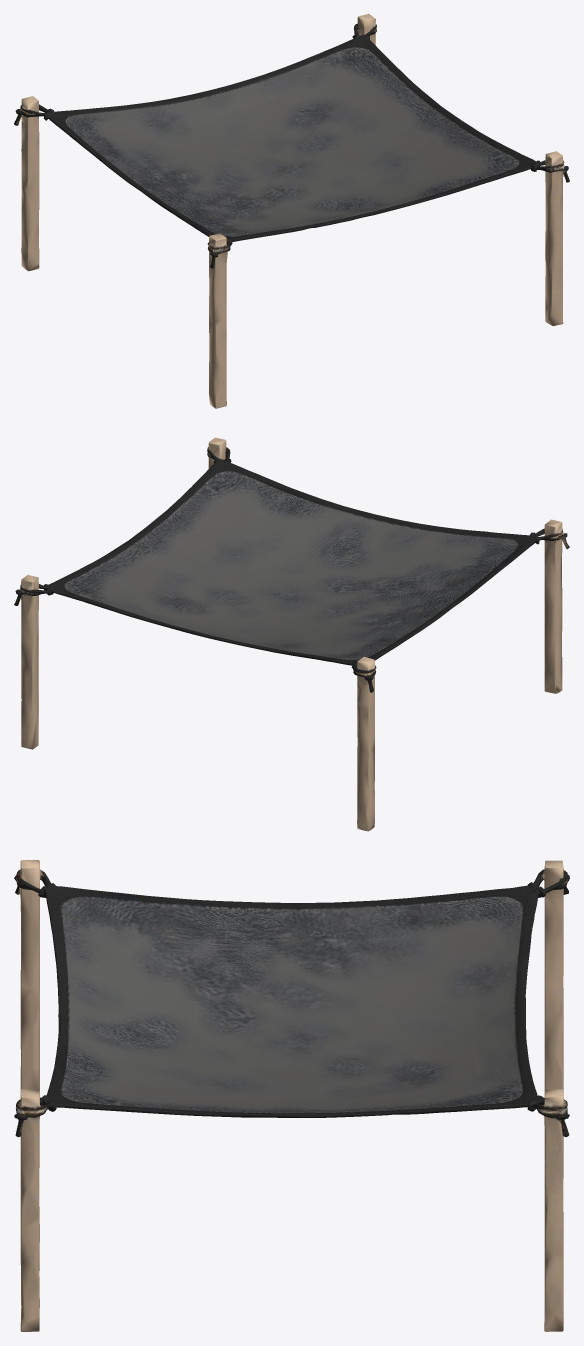
File: paranet.glb
3 views of the same model, one above another, from view 1: azimuth 30°, elevation 25°; view 2: azimuth 150°, elevation 25°; view 3: azimuth 270°, elevation 25° (orthographic). The views are drawn at different scales.
Parts seen in each view (by area): view 1: tripo_node_de4cfaa4-1710-44a4-973d-dfee8c646236; view 2: tripo_node_de4cfaa4-1710-44a4-973d-dfee8c646236; view 3: tripo_node_de4cfaa4-1710-44a4-973d-dfee8c646236.
Boxes of the visible parts, x1,y1,x2,y2 form: tripo_node_de4cfaa4-1710-44a4-973d-dfee8c646236: (14,14,569,408); tripo_node_de4cfaa4-1710-44a4-973d-dfee8c646236: (14,437,569,831); tripo_node_de4cfaa4-1710-44a4-973d-dfee8c646236: (14,860,569,1331).
Bounding box in the file's own units: 1 × 0.4484 × 0.9587.
Materials: 1 (1 with a texture image).
